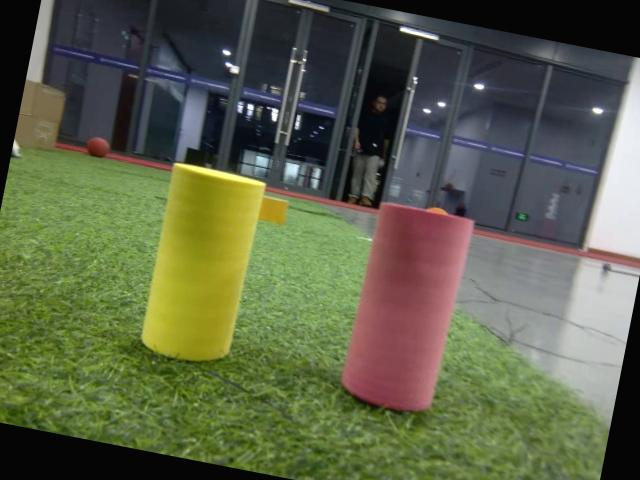red_cylinder: (334, 196, 474, 418)
yellow_cylinder: (130, 158, 268, 370)
